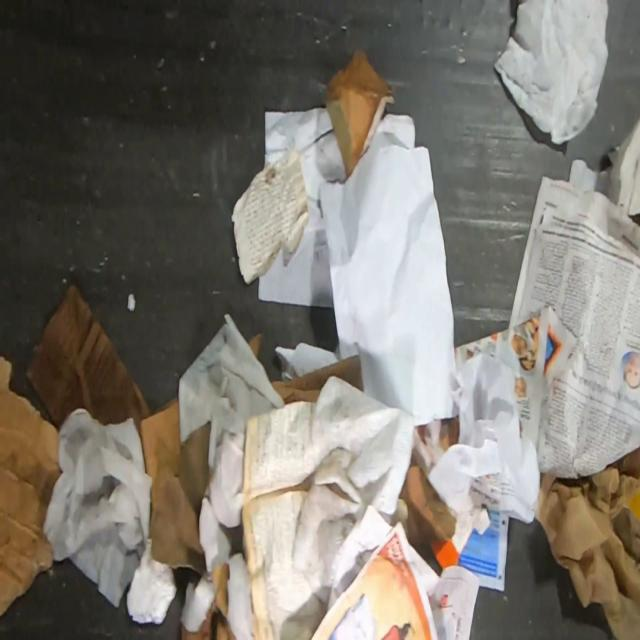cardboard: (138, 395, 255, 640), (25, 282, 153, 431), (0, 355, 64, 621), (323, 46, 395, 179), (270, 354, 362, 404), (248, 332, 263, 360)
soft_plastic: (492, 0, 610, 146)
